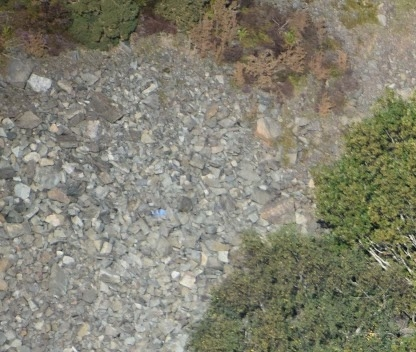white_in_green: (136, 190, 178, 232)
